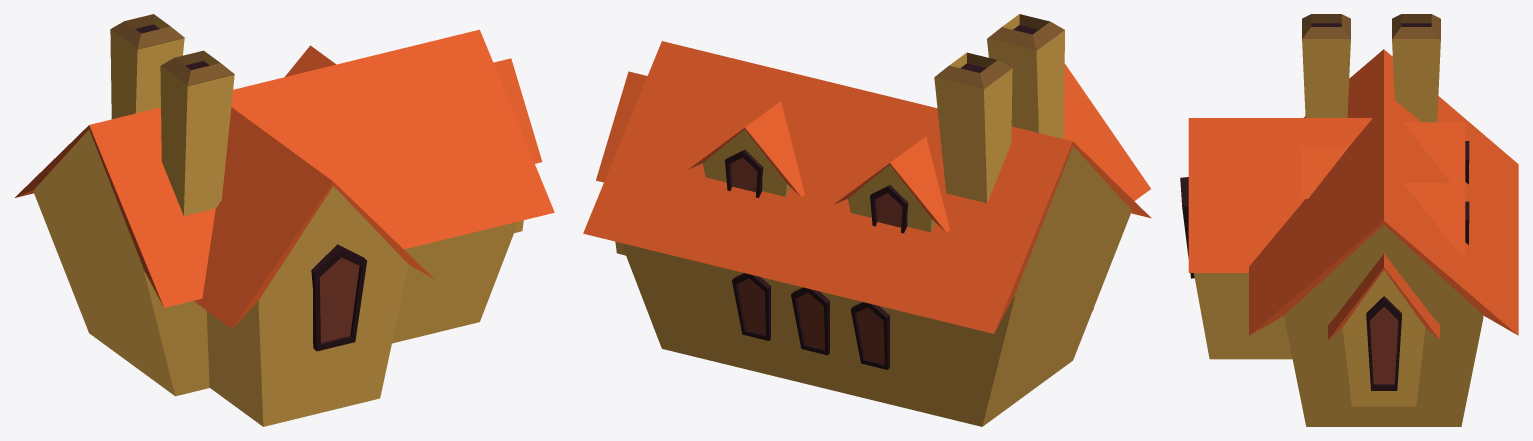
The model's file is house_4.fbx.
3 views of the same model, side by side, from view 1: azimuth 30°, elevation 25°; view 2: azimuth 150°, elevation 25°; view 3: azimuth 270°, elevation 25° (orthographic). The views are drawn at different scales.
Parts seen in each view (by area): view 1: Cube_Cube.003, Cube.008_Cube.032, Cube.001_Cube.004, Cube.004_Cube.047, Cube.019_Cube.046, Cube.018_Cube.045, Cube.003_Cube.007; view 2: Cube_Cube.003, Cube.004_Cube.047, Cube.001_Cube.004, Cube.003_Cube.007, Cube.013_Cube.043, Cube.008_Cube.032, Cube.015_Cube.038, Cube.014_Cube.037, Cube.016_Cube.039, Cube.018_Cube.045, Cube.007_Cube.011, Cube.012_Cube.042; view 3: Cube_Cube.003, Cube.008_Cube.032, Cube.018_Cube.045, Cube.001_Cube.004, Cube.004_Cube.047, Cube.017_Cube.044, Cube.003_Cube.007, Cube.013_Cube.043, Cube.002_Cube.006, Cube.019_Cube.046.
Part boxes in pixels (box(x1,y1,x2,y2)): Cube_Cube.003: box(15, 29, 554, 396); Cube.008_Cube.032: box(194, 107, 433, 426); Cube.001_Cube.004: box(160, 50, 234, 215); Cube.004_Cube.047: box(110, 14, 184, 119); Cube.019_Cube.046: box(311, 244, 366, 351); Cube.018_Cube.045: box(493, 58, 542, 233); Cube.003_Cube.007: box(285, 45, 336, 76); Cube_Cube.003: box(583, 41, 1151, 426); Cube.004_Cube.047: box(934, 52, 1012, 203); Cube.001_Cube.004: box(987, 14, 1064, 138); Cube.003_Cube.007: box(689, 101, 804, 196); Cube.013_Cube.043: box(833, 136, 949, 232); Cube.008_Cube.032: box(1063, 63, 1150, 309); Cube.015_Cube.038: box(850, 302, 889, 369); Cube.014_Cube.037: box(732, 273, 770, 340); Cube.016_Cube.039: box(791, 287, 829, 355); Cube.018_Cube.045: box(596, 71, 647, 255); Cube.007_Cube.011: box(725, 149, 763, 197); Cube.012_Cube.042: box(870, 185, 908, 233); Cube_Cube.003: box(1249, 49, 1518, 426); Cube.008_Cube.032: box(1188, 118, 1372, 359); Cube.018_Cube.045: box(1328, 254, 1439, 406); Cube.001_Cube.004: box(1302, 14, 1350, 117); Cube.004_Cube.047: box(1392, 14, 1440, 122); Cube.017_Cube.044: box(1366, 296, 1401, 390); Cube.003_Cube.007: box(1404, 183, 1465, 254); Cube.013_Cube.043: box(1404, 122, 1465, 182); Cube.002_Cube.006: box(1301, 146, 1348, 198); Cube.019_Cube.046: box(1180, 177, 1194, 278).
Bounding box in the file's own units: 694 × 495 × 529.
